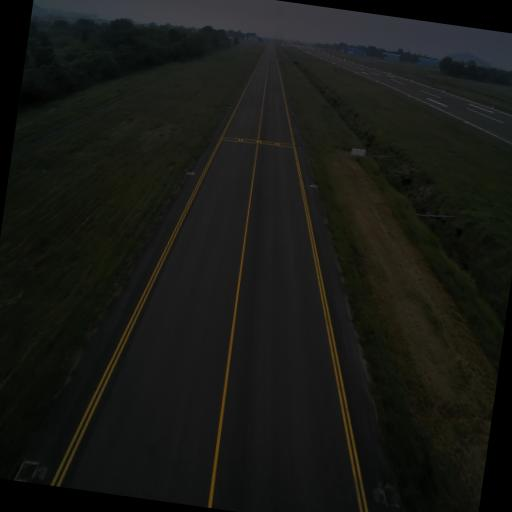on: (311, 181, 314, 185), (192, 168, 194, 172), (230, 104, 232, 108), (292, 112, 294, 116)
